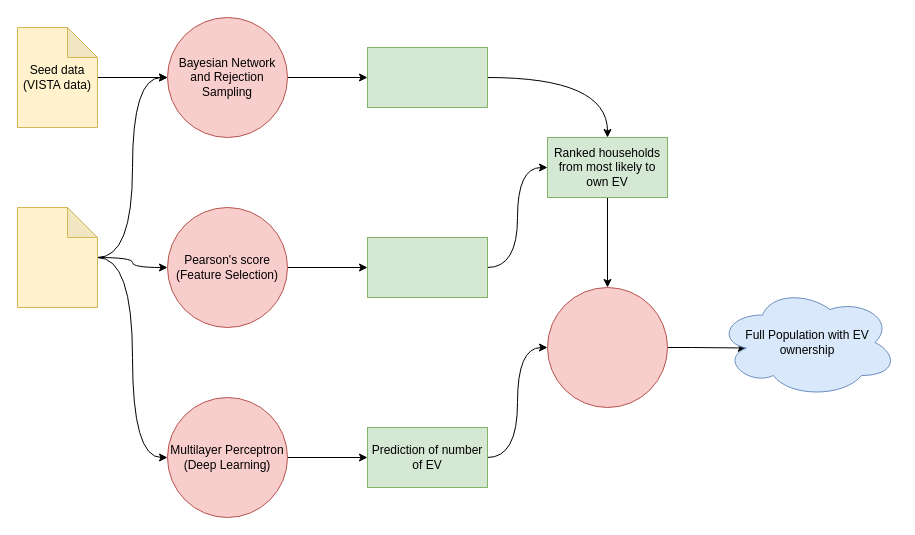
This 915x535 diagram has some shape labels left out. Here are the shapes that lost their labels. From the top down, the box of each, then its label:
(366, 46, 488, 108): Synthetic Population
(16, 206, 98, 308): Census data
(366, 236, 488, 298): Score for each attribute
(546, 286, 668, 408): Assigning EV to each household
